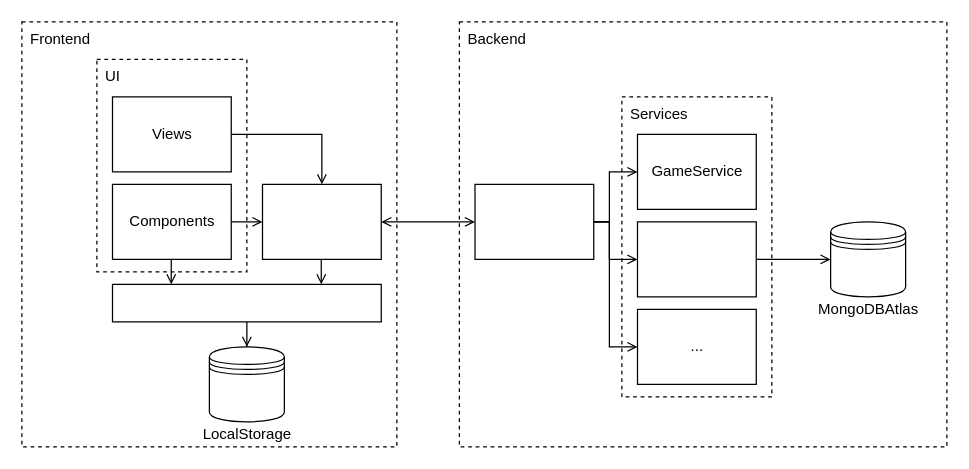
Image size: 969x469. Some labels were removed from this diagram. Each missing label, with the centre of its shape:
"DatabaseService" goes at point 696,259.
"Store" goes at point 246,302.
"WebSocket Client Gateway" goes at point 321,221.
"WebSocket Server Gateway" goes at point 534,221.
